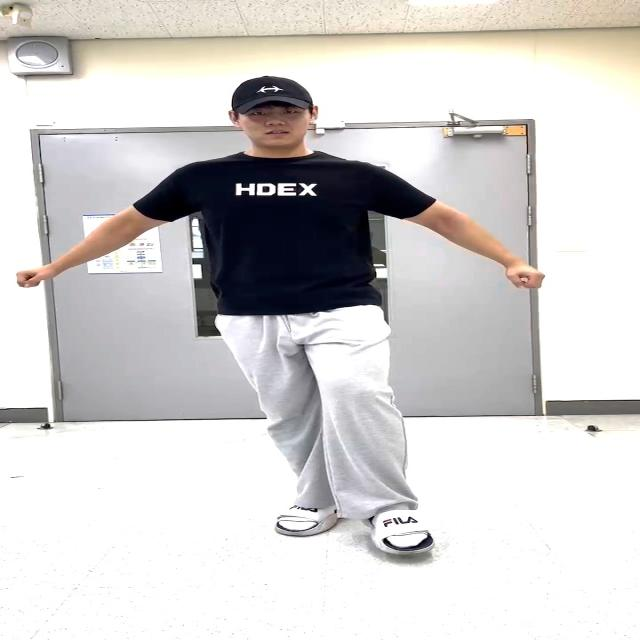leg: (294, 340, 488, 574)
